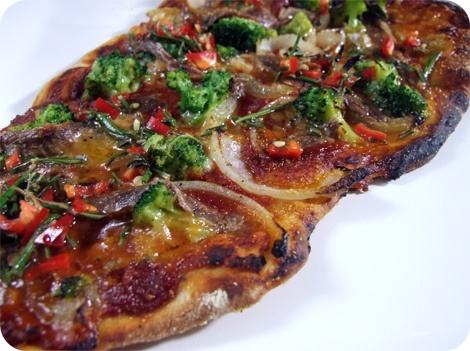pizza: (1, 0, 470, 347)
